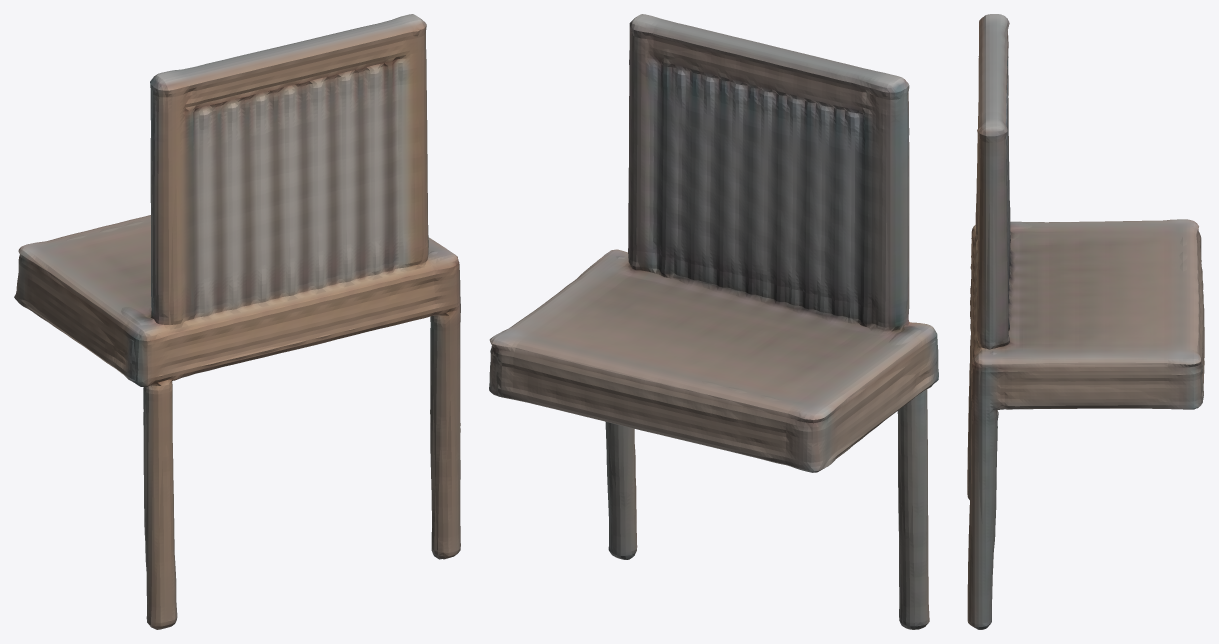
The model's file is chair_seed1.glb.
3 renders of one model, left to right at view 1: azimuth 30°, elevation 25°; view 2: azimuth 150°, elevation 25°; view 3: azimuth 270°, elevation 25°, orthographic. The views are drawn at different scales.
Parts seen in each view (by area): view 1: geometry_0; view 2: geometry_0; view 3: geometry_0.
Boxes of the visible parts, left/top/right/bottom form: geometry_0: left=14, top=14, right=460, bottom=629; geometry_0: left=489, top=14, right=938, bottom=629; geometry_0: left=967, top=14, right=1204, bottom=629.
Size of the model in its own units: 0.6393 by 1 by 0.4384.
